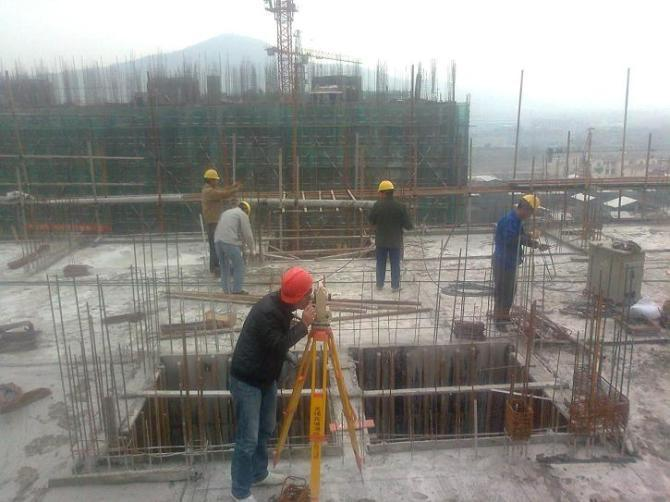helmet: (276, 261, 313, 307), (517, 193, 539, 217), (200, 166, 221, 189), (375, 177, 394, 197), (235, 197, 253, 216)
